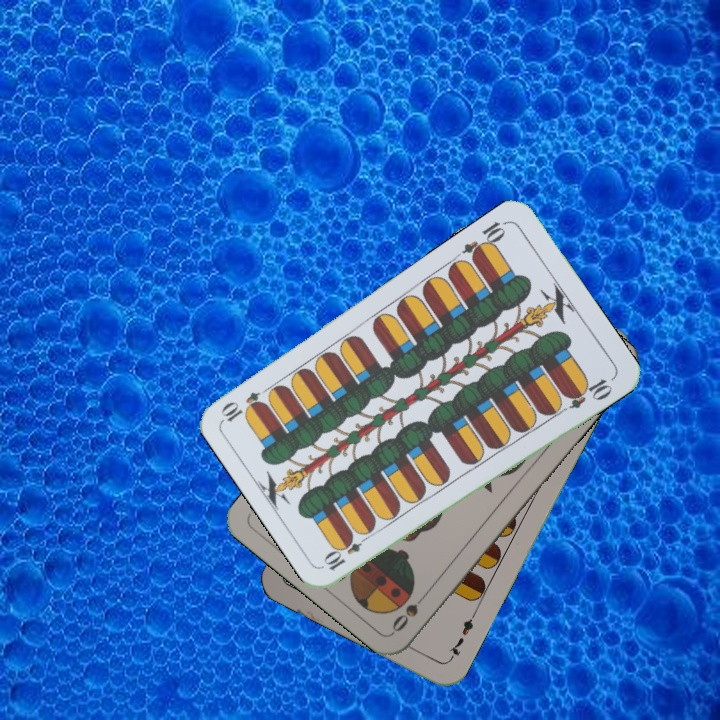E10: (458, 217, 510, 264), (320, 529, 373, 573)
E7: (445, 608, 479, 663)
SO: (387, 586, 432, 635)
